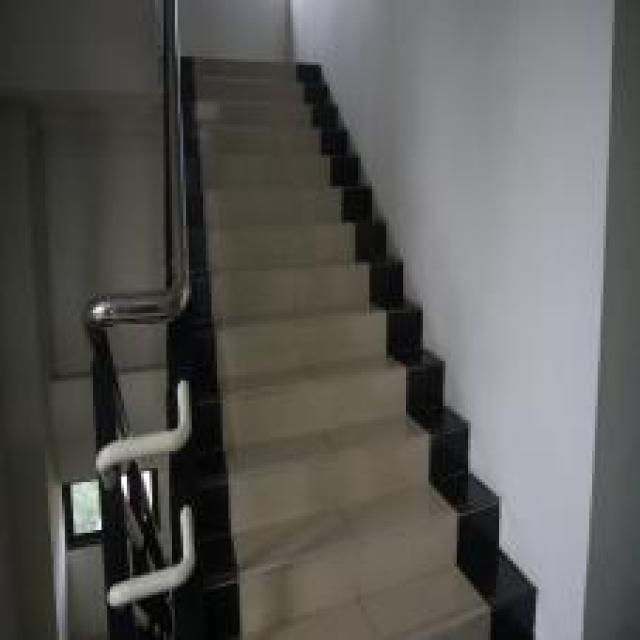upstair: (181, 100, 486, 638)
